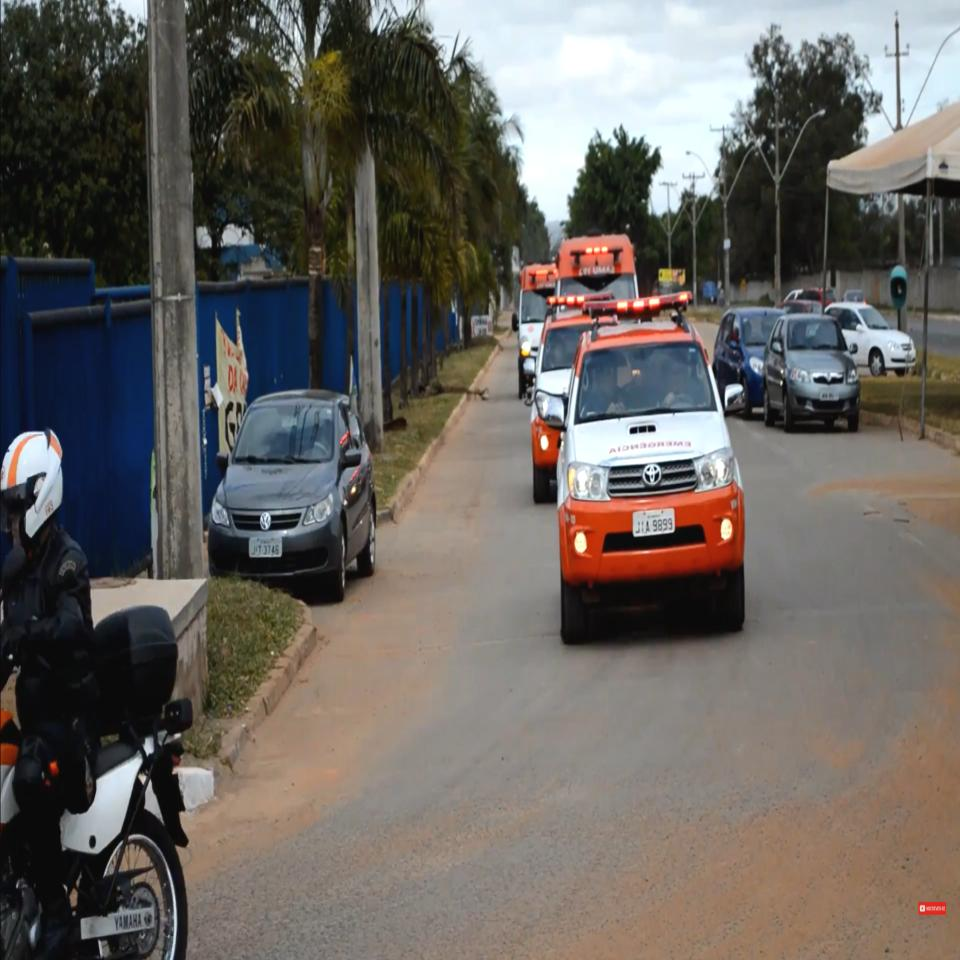ambulancia: (546, 291, 747, 637)
